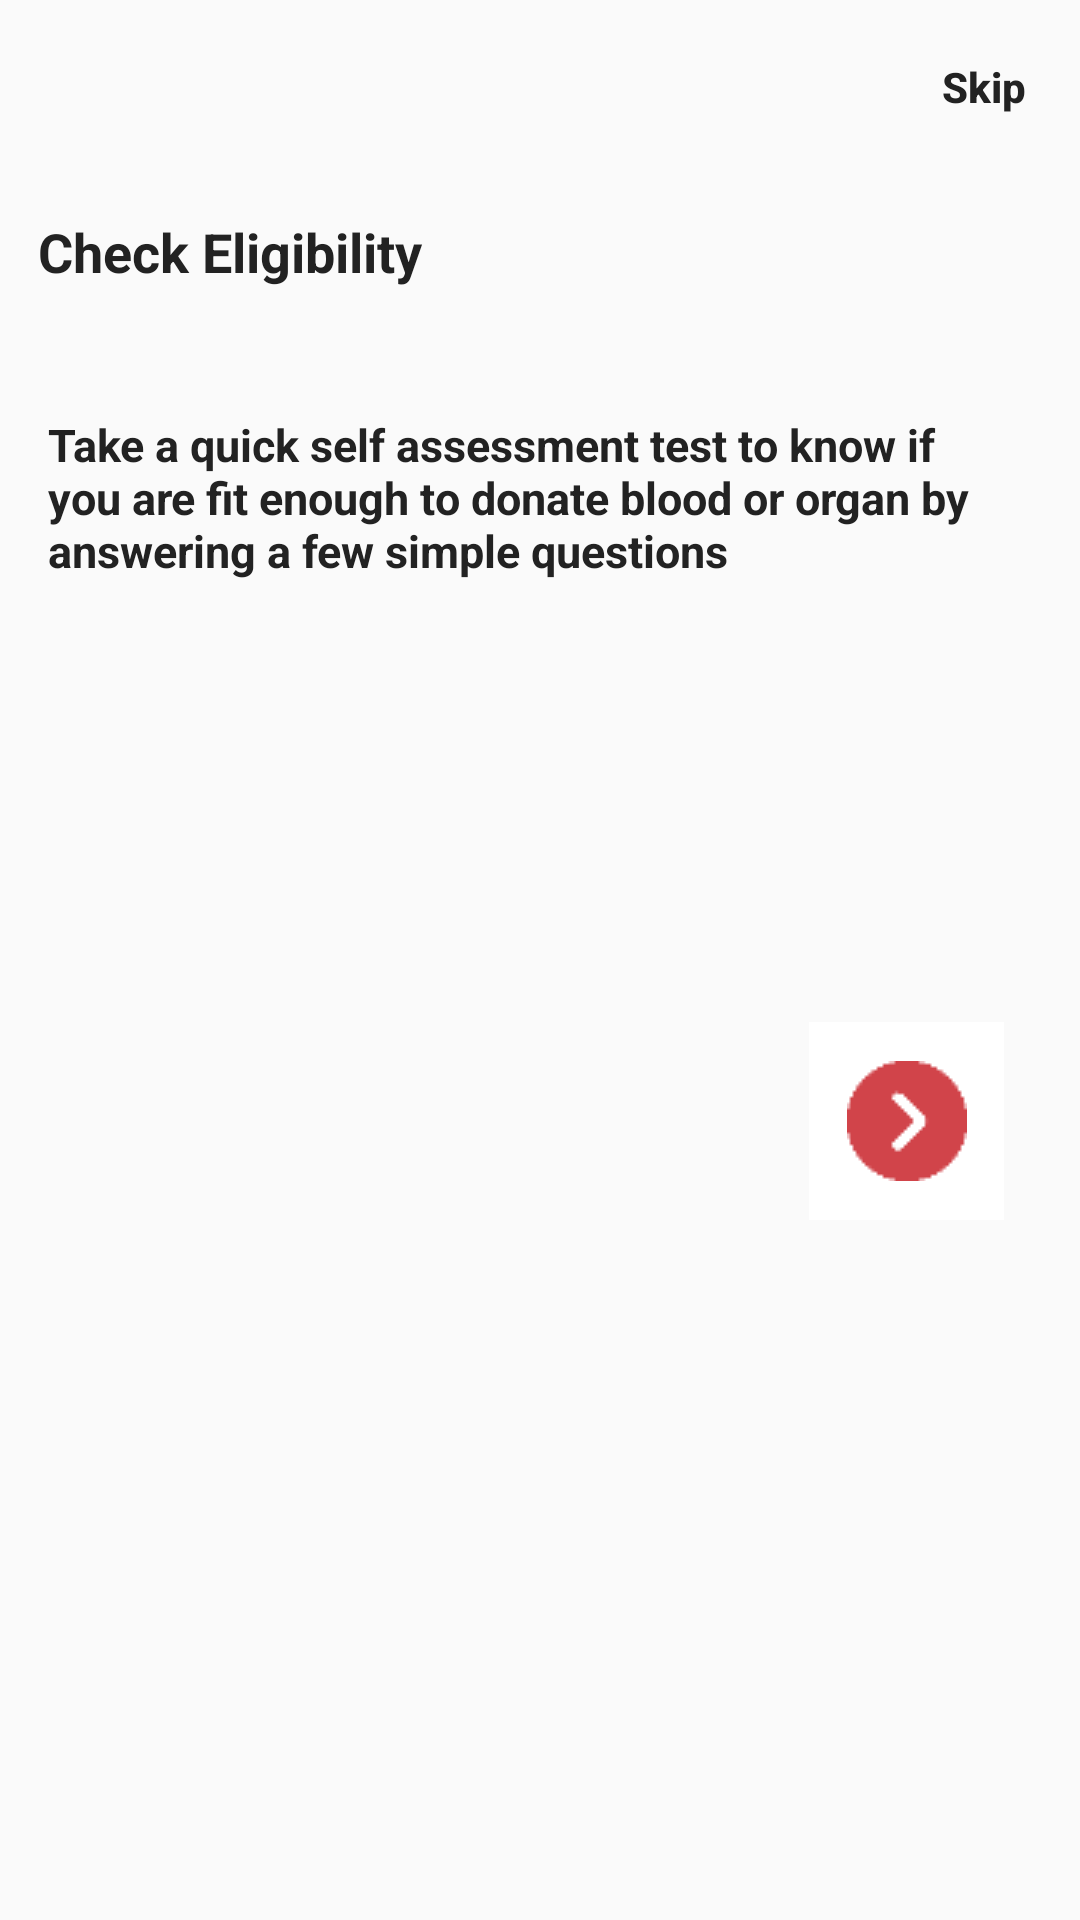

Point at icon controls on the screen. Image size 1080*1920, points as point (x, y).
next: point (907, 1121)
